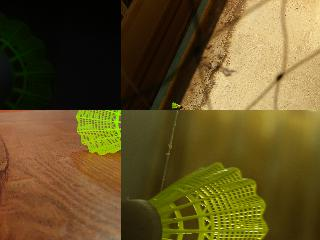shuttlecock: (121, 162, 269, 239), (0, 9, 54, 109), (75, 110, 120, 155), (172, 102, 180, 108)
